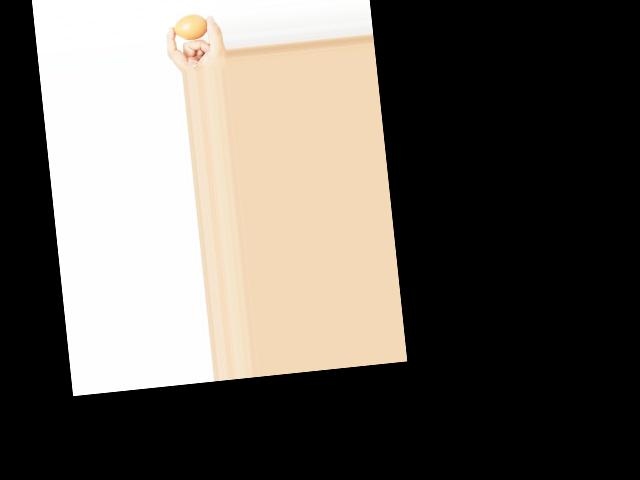egg: (172, 12, 208, 41)
